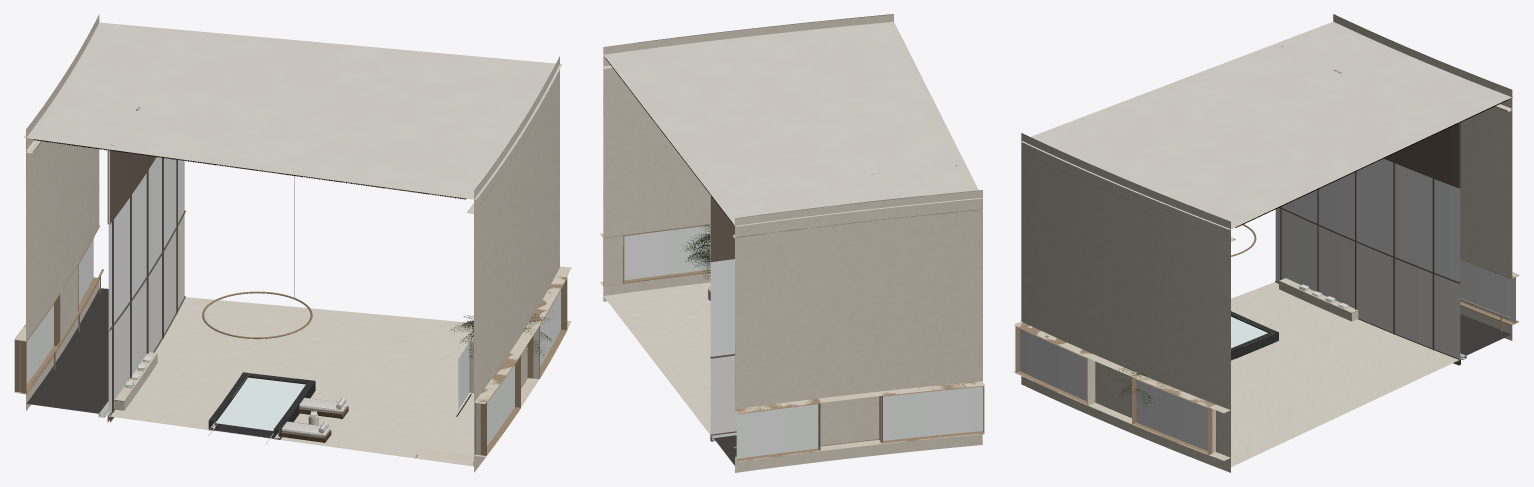
3 renders of one model, left to right at view 1: azimuth 30°, elevation 25°; view 2: azimuth 150°, elevation 25°; view 3: azimuth 270°, elevation 25°, orthographic. The views are drawn at different scales.
Visible parts, largest first — view 1: c1320, c1320 leaves; view 2: c1320, c1320 leaves; view 3: c1320, c1320 leaves.
Part boxes in pixels (<box>): c1320: <box>14,14,571,472</box>; c1320 leaves: <box>33,139,551,359</box>; c1320: <box>600,14,984,472</box>; c1320 leaves: <box>605,58,732,279</box>; c1320: <box>1014,14,1519,472</box>; c1320 leaves: <box>1113,99,1507,406</box>.
Size of the model in its own units: 24.09 by 13.21 by 24.09.
14 materials, 2 textured.
